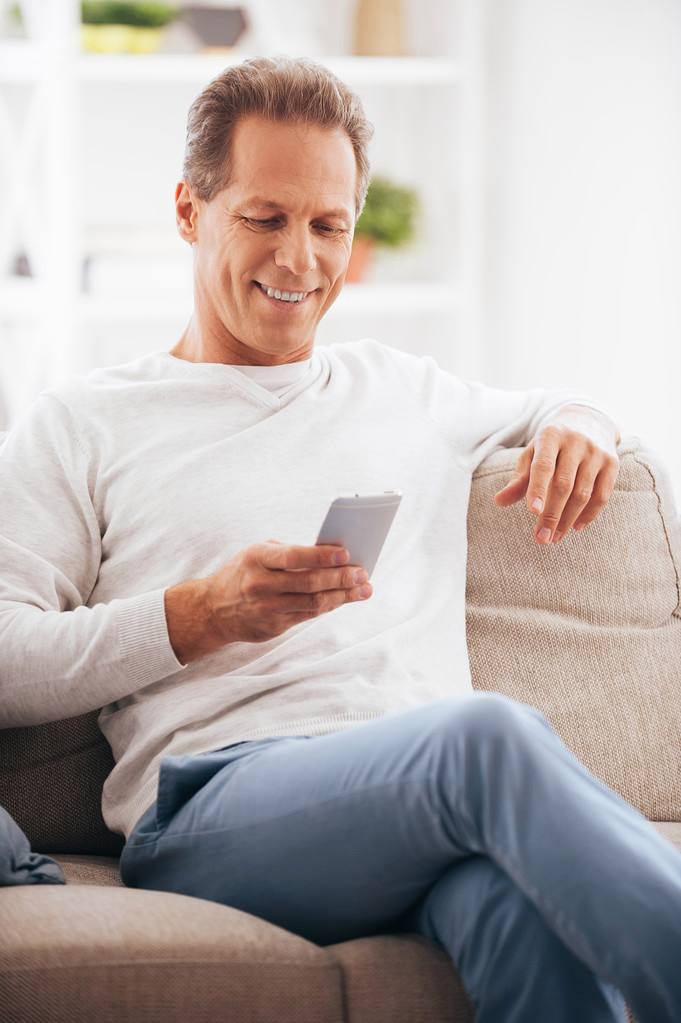reading: (184, 488, 406, 650)
